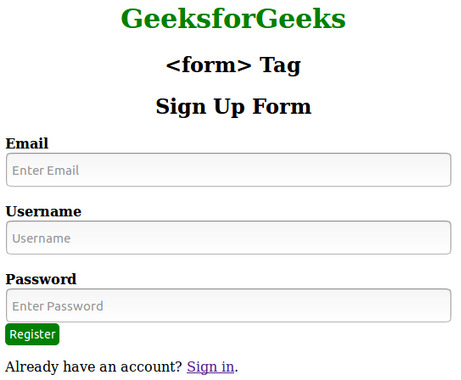_form_: (1, 49, 459, 380)
button: (2, 321, 63, 348)
field: (5, 151, 452, 188), (3, 220, 453, 256), (4, 288, 452, 324)
field_with_label: (4, 136, 455, 189), (1, 205, 455, 257), (3, 273, 455, 325)
